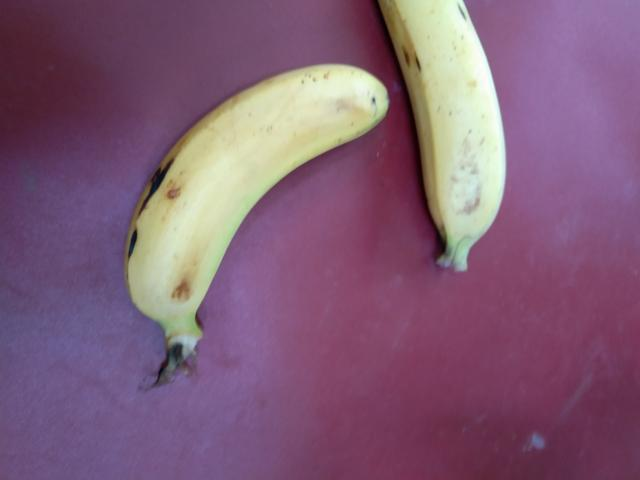freshripe: (386, 0, 531, 257)
ripe: (117, 62, 388, 338)
